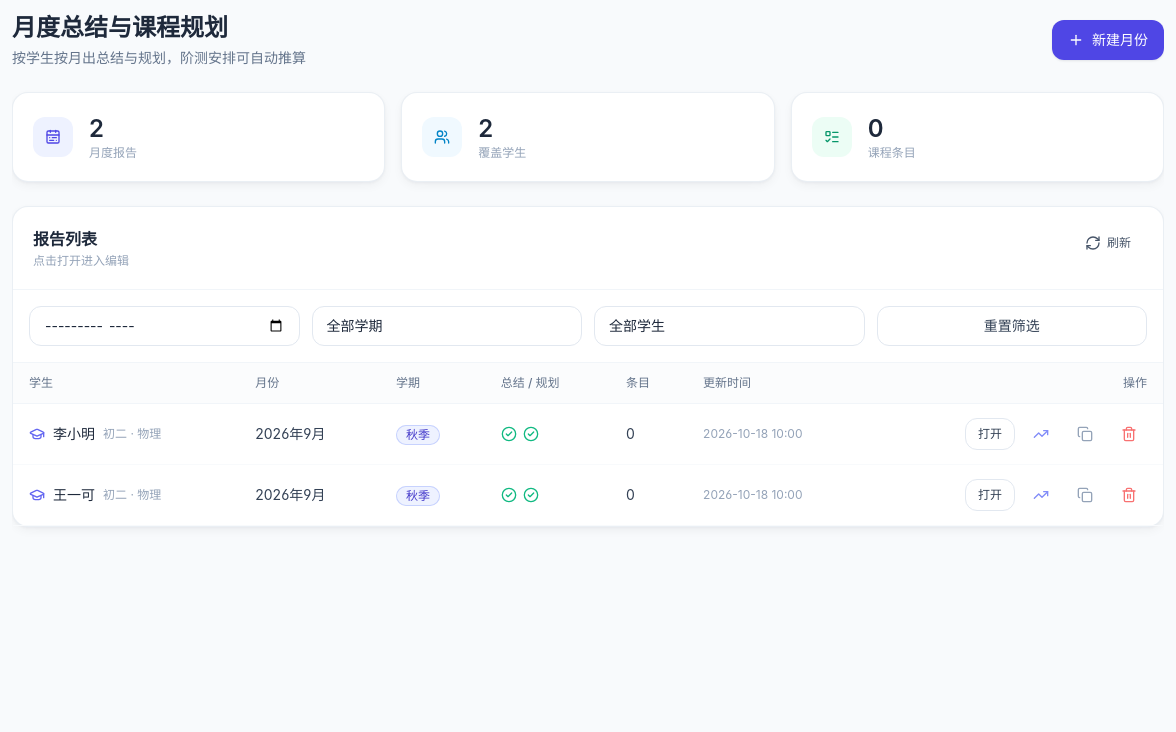
Test: 月度报告列表 › 按学生筛选会请求带 studentId 的接口
Check: the text "李小明" is shown, box [53,424,95,444]
Select "王一可" in the dropdown named "学生": (729, 326) [594,306,864,346]
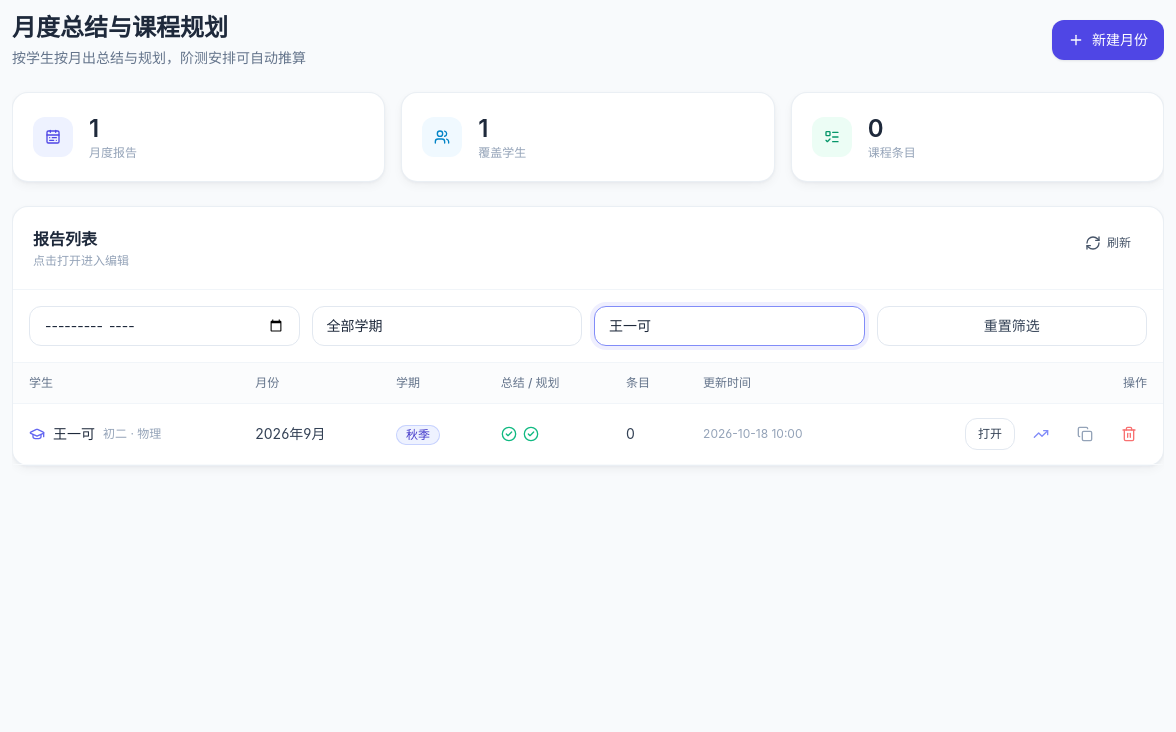
Check: the text "王一可" is shown, box [53,424,95,444]
Check: the text "李小明" is gone
